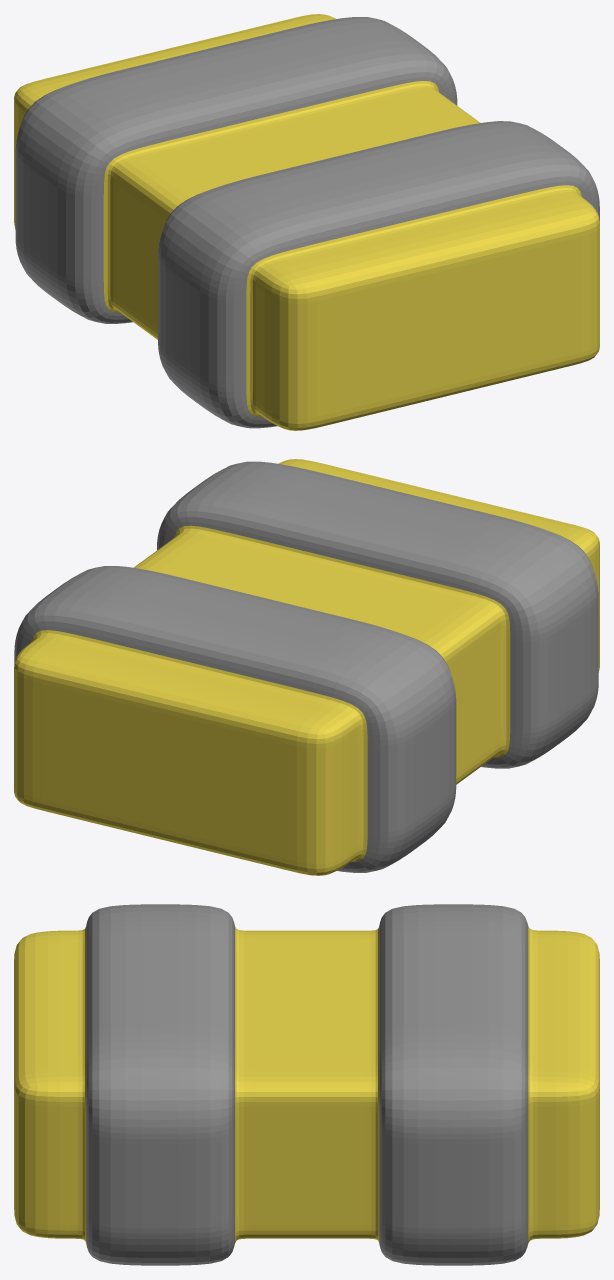
Rendered from butter.glb.
3 views of the same model, one above another, from view 1: azimuth 30°, elevation 25°; view 2: azimuth 150°, elevation 25°; view 3: azimuth 270°, elevation 25° (orthographic). The views are drawn at different scales.
Parts seen in each view (by area): view 1: Cube.001; view 2: Cube.001; view 3: Cube.001.
Boxes of the visible parts, x1,y1,x2,y2 form: Cube.001: (14, 14, 599, 430); Cube.001: (14, 459, 599, 875); Cube.001: (14, 904, 599, 1265).
Bounding box in the file's own units: 0.2531 × 0.1277 × 0.317.
